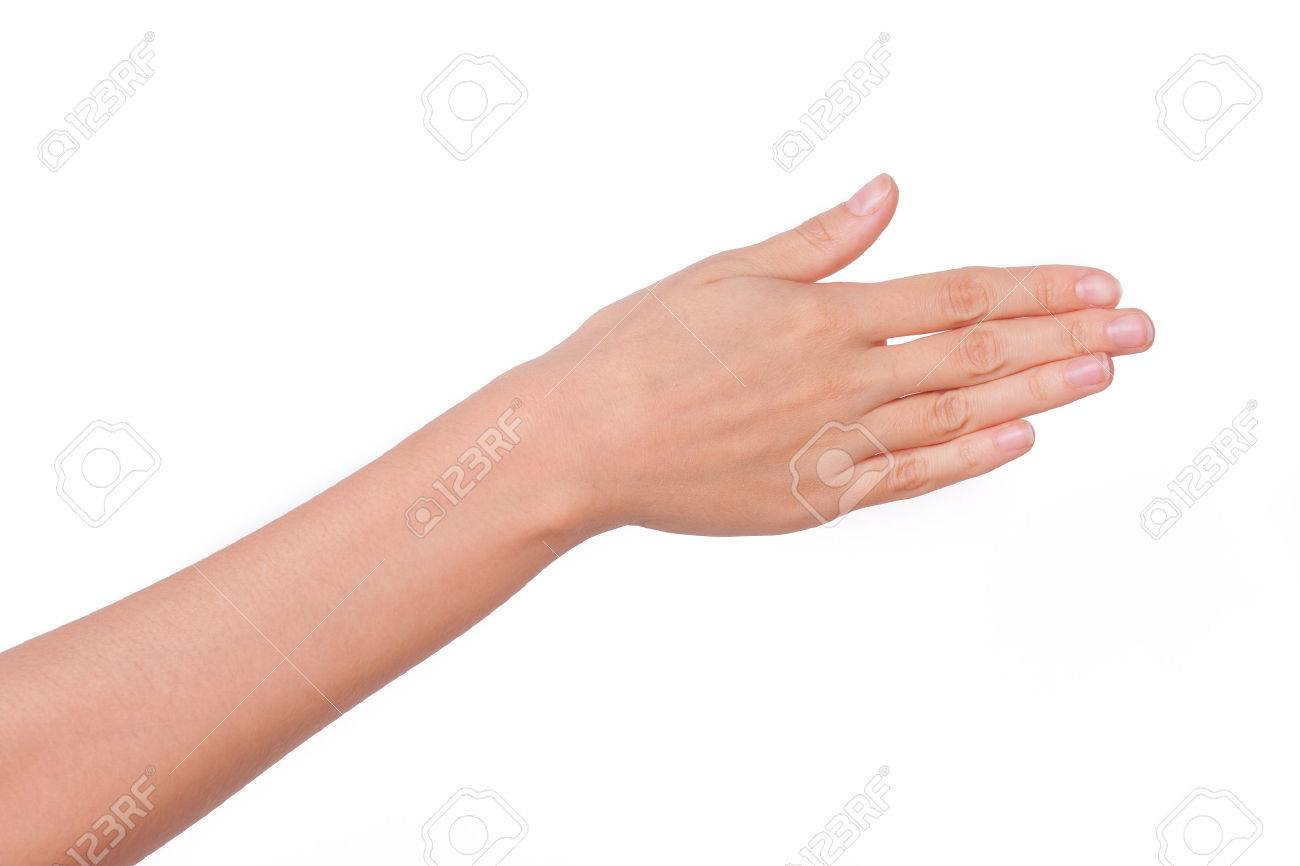No_Glove: (564, 137, 1173, 661)
